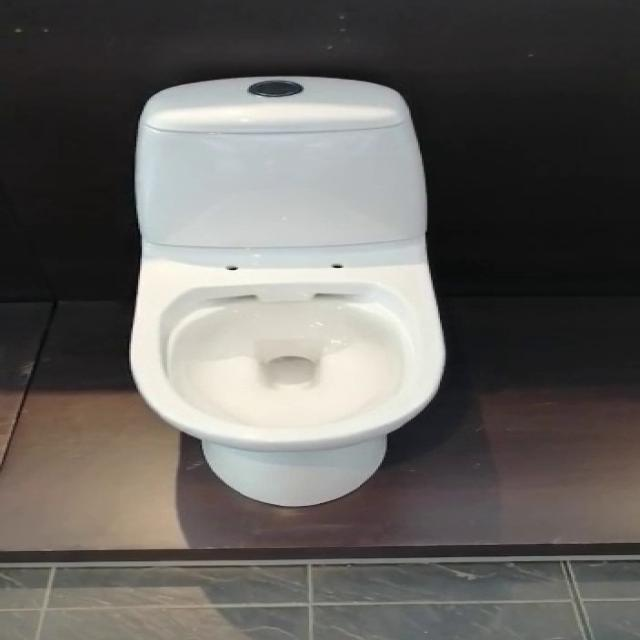toilet: (127, 75, 446, 507)
